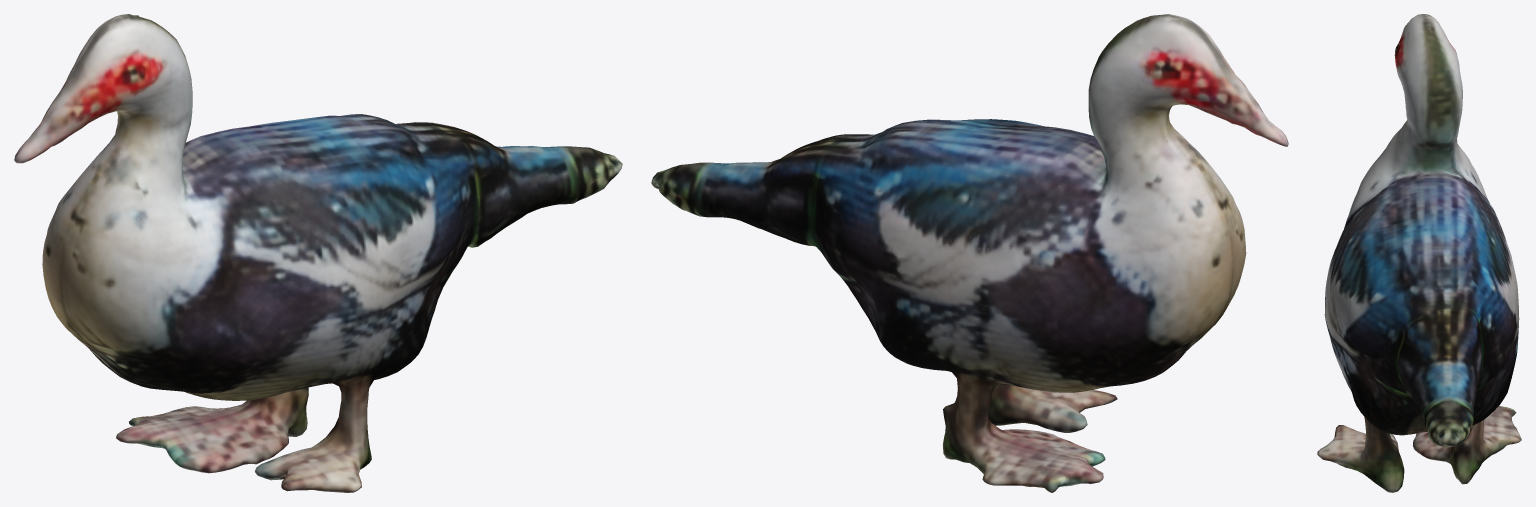
Rendered from joven.glb.
The picture shows the model from 3 angles, left to right: view 1: azimuth 30°, elevation 25°; view 2: azimuth 150°, elevation 25°; view 3: azimuth 270°, elevation 25°; orthographic projection. The views are drawn at different scales.
Parts seen in each view (by area): view 1: mesh; view 2: mesh; view 3: mesh.
Part boxes in pixels (box(x1,y1,x2,y2)): mesh: box(14, 14, 622, 492); mesh: box(651, 14, 1288, 492); mesh: box(1317, 14, 1521, 492).
Size of the model in its own units: 1.85 by 1.37 by 0.6537.
1 material, 1 textured.
